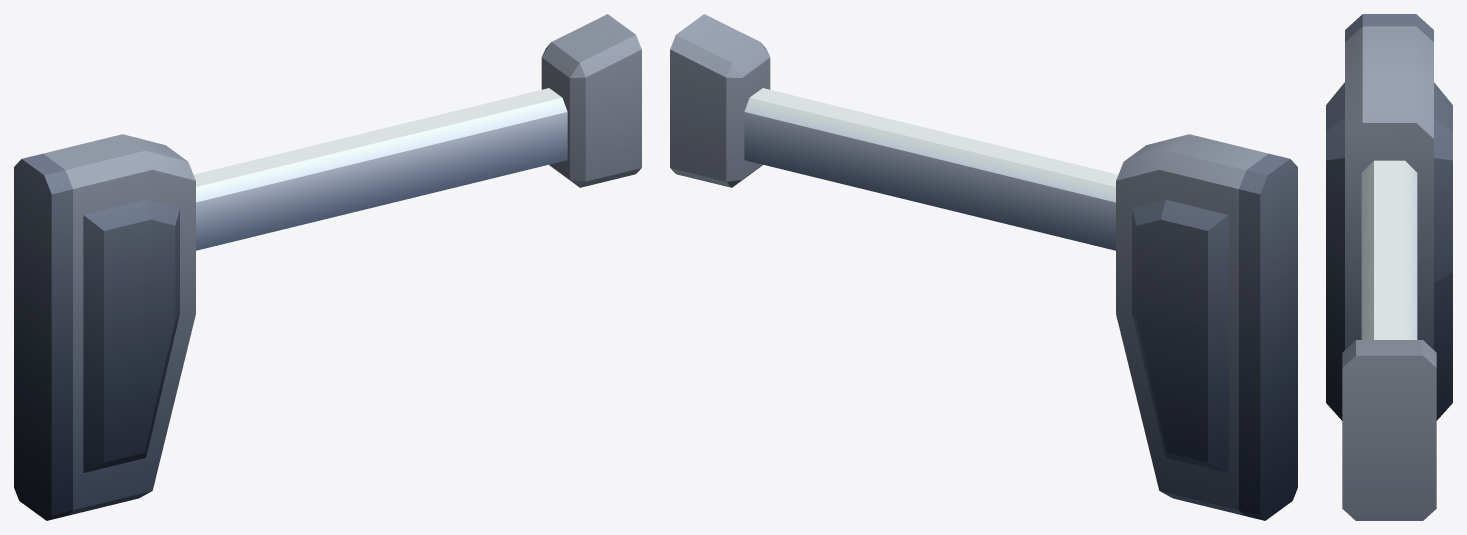
The model's file is Stock2.FBX.
The picture shows the model from 3 angles, left to right: view 1: azimuth 30°, elevation 25°; view 2: azimuth 150°, elevation 25°; view 3: azimuth 270°, elevation 25°; orthographic projection. The views are drawn at different scales.
Visible parts, largest first — view 1: Box018; view 2: Box018; view 3: Box018.
Part boxes in pixels (x1=…): Box018: x1=14, y1=14, x2=641, y2=520; Box018: x1=670, y1=14, x2=1297, y2=520; Box018: x1=1326, y1=14, x2=1452, y2=520.
Size of the model in its own units: 18.38 by 10.25 by 2.89.
